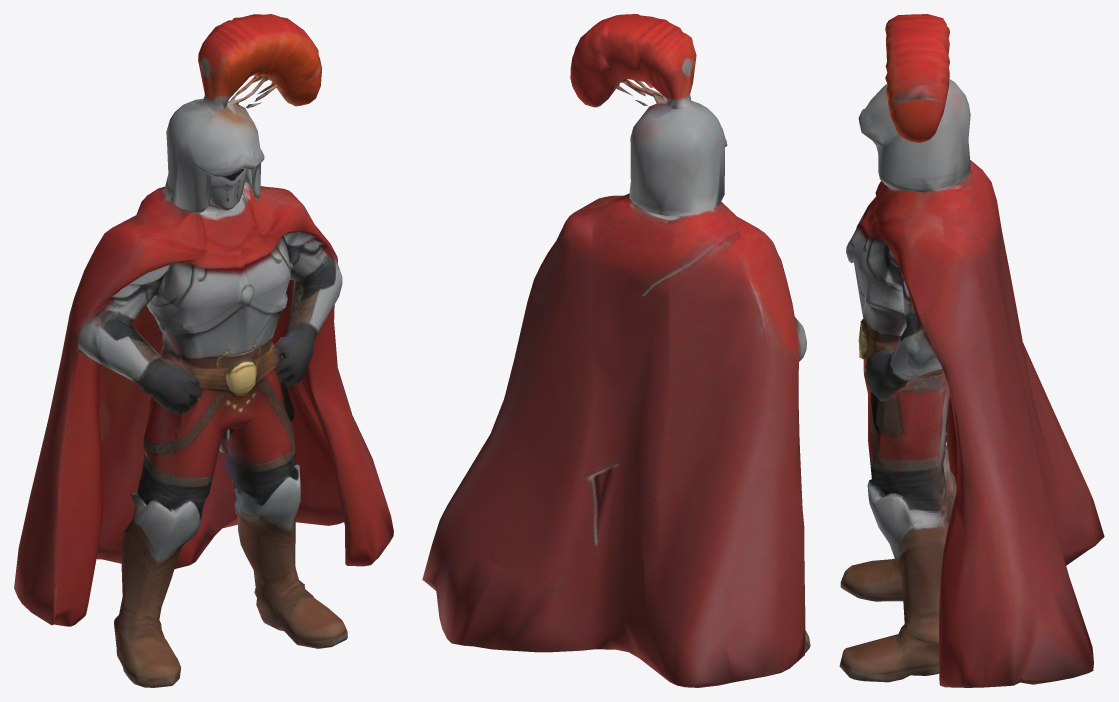
The model's file is hero_conquistador.glb.
The picture shows the model from 3 angles, left to right: view 1: azimuth 30°, elevation 25°; view 2: azimuth 150°, elevation 25°; view 3: azimuth 270°, elevation 25°; orthographic projection. The views are drawn at different scales.
Visible parts, largest first — view 1: Rig; view 2: Rig; view 3: Rig.
Boxes of the visible parts, <box> form: Rig: <box>14,14,393,687</box>; Rig: <box>422,14,810,687</box>; Rig: <box>839,14,1104,687</box>.
Bounding box in the file's own units: 1.14 × 1.85 × 0.7072.
Materials: 1 (1 with a texture image).
